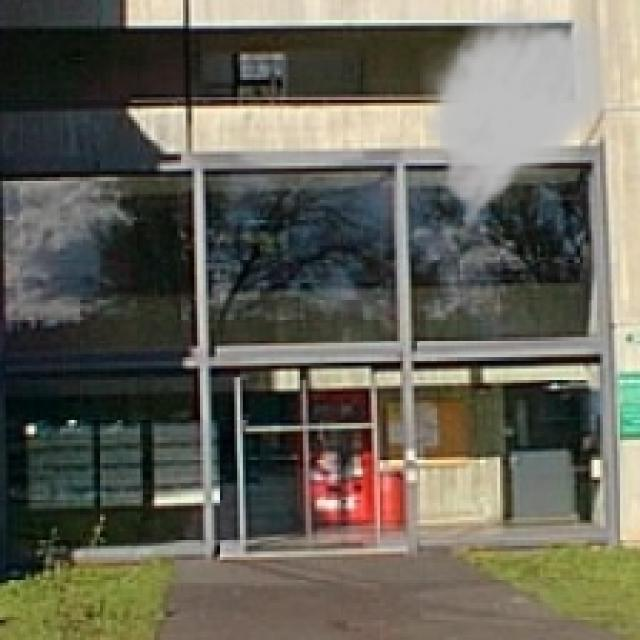Smoke: (417, 2, 623, 252)
